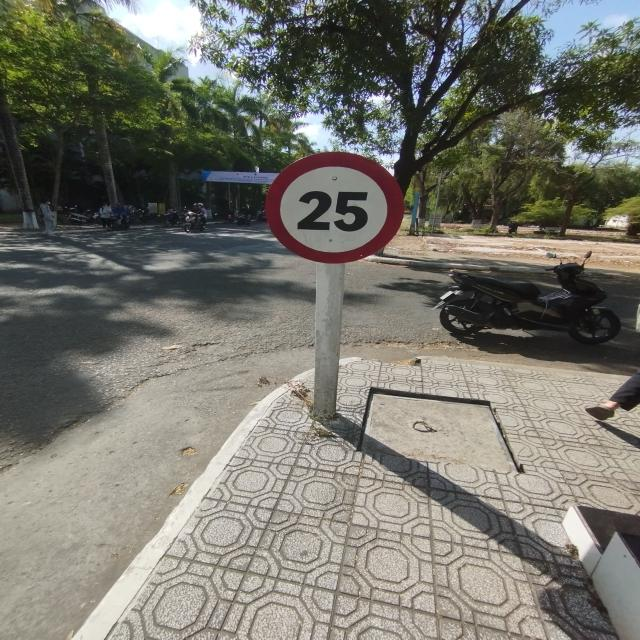Tre_Em: (264, 151, 408, 264)
